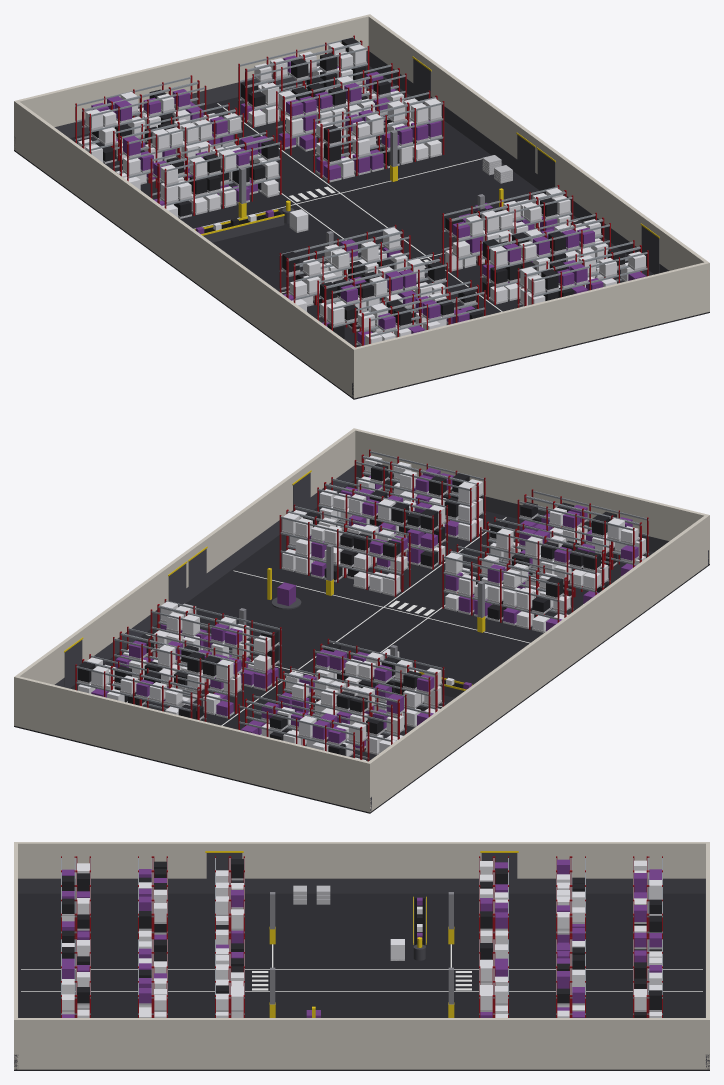
The model's file is pallet_warehouse.dae.
The picture shows the model from 3 angles, top to bottom: view 1: azimuth 30°, elevation 25°; view 2: azimuth 150°, elevation 25°; view 3: azimuth 270°, elevation 25°; orthographic projection. The views are drawn at different scales.
Visible parts, largest first — view 1: n1, n0, n7, n5, n9, n8, n4, n2, n6, n10, n3, n12; view 2: n1, n0, n7, n5, n9, n4, n8, n2, n6, n10, n12, n3; view 3: n0, n1, n7, n2, n9, n8, n4, n5, n6, n10, n12, n3.
Part boxes in pixels (x1,y1,x2,y2): n1: (14,14,709,398); n0: (14,65,709,399); n7: (78,42,645,344); n5: (75,37,647,344); n9: (91,55,645,345); n8: (91,37,624,339); n4: (75,35,648,347); n2: (15,51,668,397); n6: (85,61,646,345); n10: (194,103,577,311); n3: (195,56,659,238); n12: (239,130,484,263); n1: (14,428,709,812); n0: (14,479,709,813); n7: (78,455,645,760); n5: (76,451,648,758); n9: (91,468,638,748); n4: (75,449,648,761); n8: (78,463,616,755); n2: (55,465,708,812); n6: (77,470,646,756); n10: (146,517,529,725); n12: (239,544,484,658); n3: (64,470,485,690); n0: (14,893,709,1070); n1: (14,842,709,1069); n7: (62,860,661,1017); n2: (14,853,709,1069); n9: (62,859,661,1017); n8: (62,859,662,1017); n4: (61,856,662,1017); n5: (61,858,662,1014); n6: (62,878,661,1011); n10: (21,944,702,991); n12: (270,892,453,1004); n3: (205,851,518,1017).
Size of the model in its own units: 30.6 by 50.6 by 4.5.
